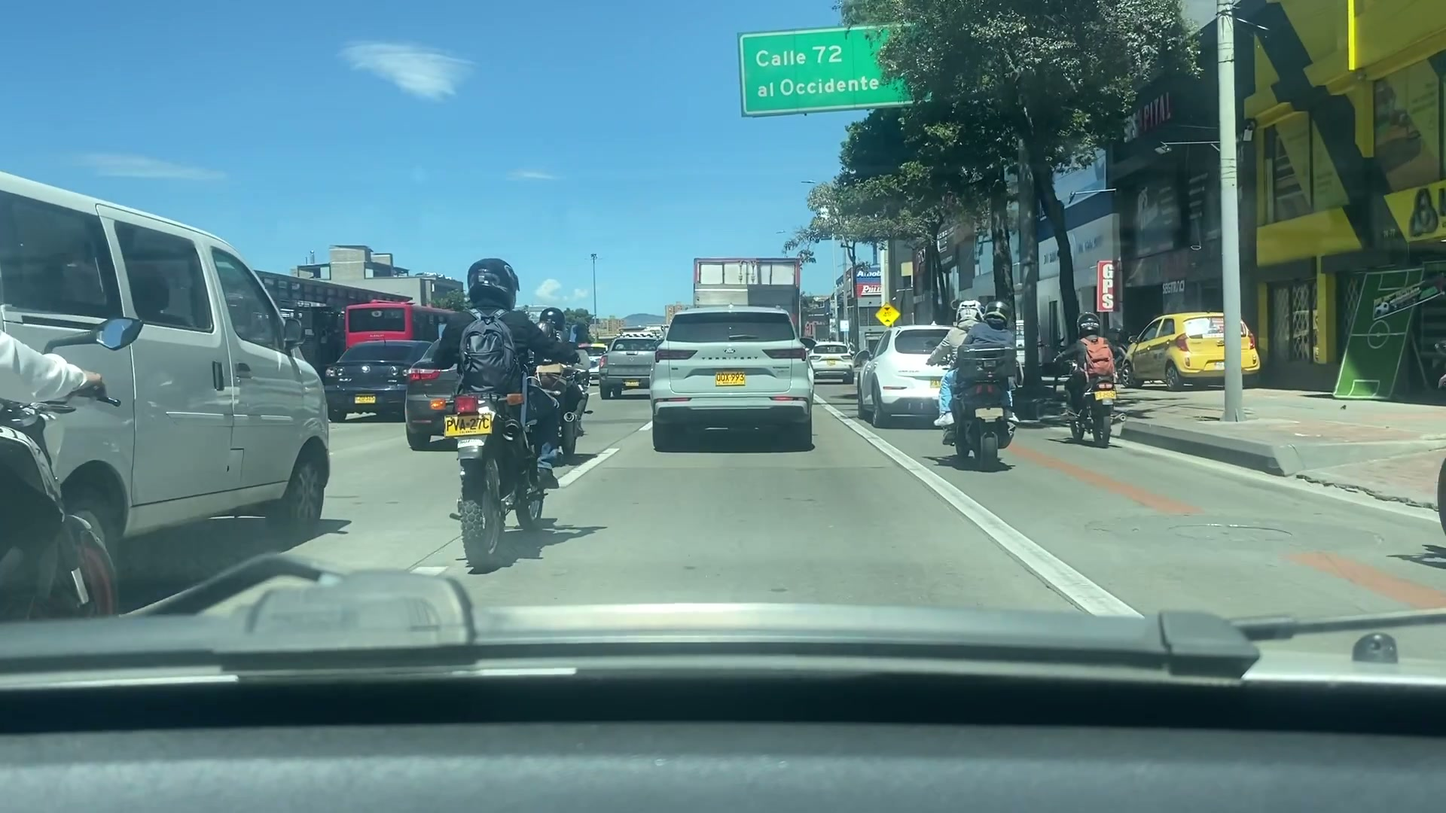bus: (0, 177, 337, 532), (342, 300, 458, 354)
car: (648, 304, 818, 450), (852, 320, 965, 427), (1131, 314, 1263, 391), (322, 340, 430, 420), (408, 338, 482, 451), (597, 320, 668, 400), (806, 334, 855, 386)
motorcycle: (434, 389, 564, 564), (935, 370, 1031, 468), (1047, 365, 1125, 446)
person: (429, 258, 564, 502), (939, 297, 1025, 468), (1051, 308, 1129, 452)
truck: (695, 253, 804, 341)
